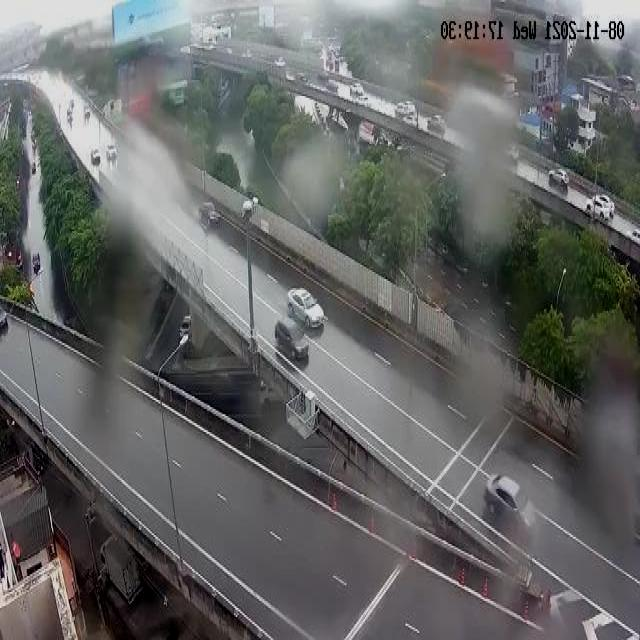Car: (484, 474, 538, 540), (287, 286, 326, 328), (274, 316, 310, 361)
